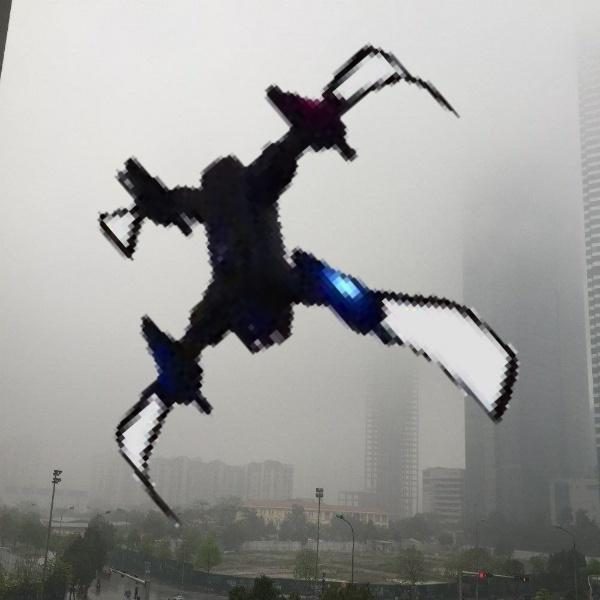drone: (50, 60, 567, 577)
